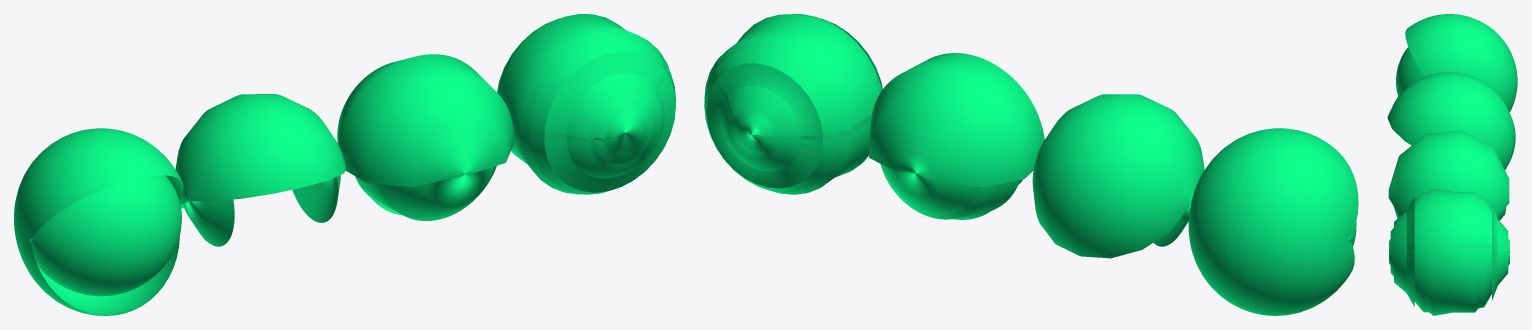
3 views of the same model, side by side, from view 1: azimuth 30°, elevation 25°; view 2: azimuth 150°, elevation 25°; view 3: azimuth 270°, elevation 25° (orthographic). The views are drawn at different scales.
Visible parts, largest first — view 1: torus_solid (×4); view 2: torus_solid (×4); view 3: torus_solid (×4).
Boxes of the visible parts, x1=… form: torus_solid (×4): x1=14, y1=14, x2=675, y2=315; torus_solid (×4): x1=704, y1=14, x2=1358, y2=315; torus_solid (×4): x1=1387, y1=14, x2=1517, y2=315.
Bounding box in the file's own units: 17.37 × 4.48 × 4.28.
